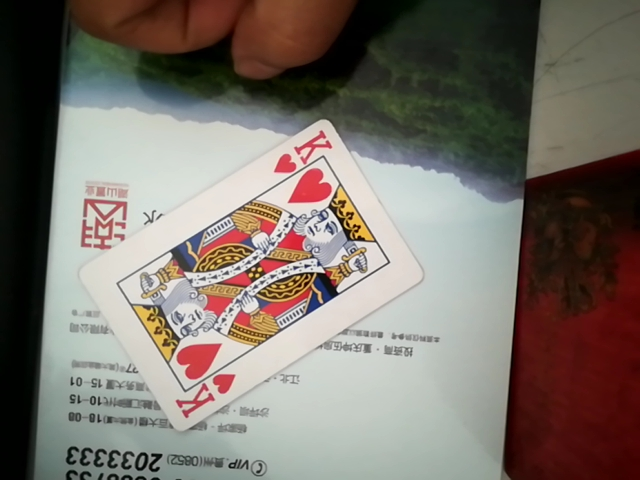hx k: (76, 107, 427, 431)
